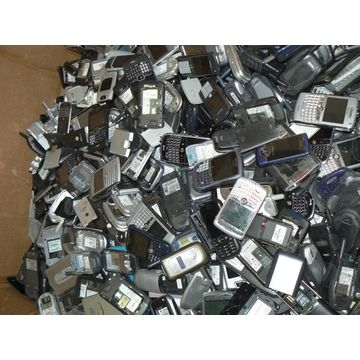metal: (211, 170, 268, 244), (288, 86, 360, 134), (261, 242, 311, 303), (189, 147, 250, 196), (156, 128, 230, 168), (122, 197, 180, 248), (97, 266, 156, 315), (119, 223, 176, 271), (251, 131, 317, 172), (156, 237, 212, 283), (195, 73, 239, 128), (130, 75, 170, 133), (83, 154, 129, 203), (80, 101, 120, 156), (17, 242, 51, 300), (59, 246, 108, 279), (90, 68, 122, 103), (32, 287, 69, 315)
